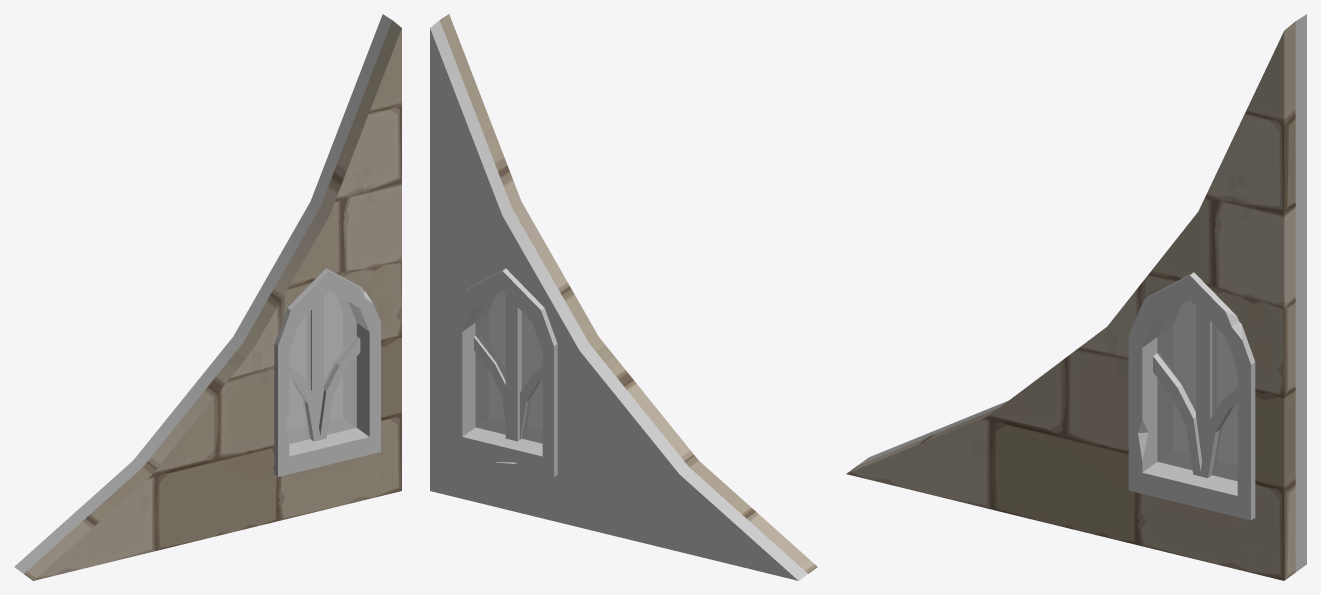
File: SM_Bld_Wall_End_Convex_Small_Window_01.fbx
The picture shows the model from 3 angles, left to right: view 1: azimuth 30°, elevation 25°; view 2: azimuth 150°, elevation 25°; view 3: azimuth 330°, elevation 25°; orthographic projection. The views are drawn at different scales.
Visible parts, largest first — view 1: SM_Bld_Wall_End_Convex_Small_Window_01, SM_Bld_Wall_End_Convex_Small_Window_01_Glass; view 2: SM_Bld_Wall_End_Convex_Small_Window_01, SM_Bld_Wall_End_Convex_Small_Window_01_Glass; view 3: SM_Bld_Wall_End_Convex_Small_Window_01, SM_Bld_Wall_End_Convex_Small_Window_01_Glass.
Boxes of the visible parts, x1,y1,x2,y2 form: SM_Bld_Wall_End_Convex_Small_Window_01: (14, 14, 401, 580); SM_Bld_Wall_End_Convex_Small_Window_01_Glass: (286, 291, 356, 444); SM_Bld_Wall_End_Convex_Small_Window_01: (430, 14, 817, 580); SM_Bld_Wall_End_Convex_Small_Window_01_Glass: (475, 291, 542, 443); SM_Bld_Wall_End_Convex_Small_Window_01: (846, 14, 1306, 580); SM_Bld_Wall_End_Convex_Small_Window_01_Glass: (1157, 299, 1237, 481).
Size of the model in its own units: 250 by 301 by 30.61.
